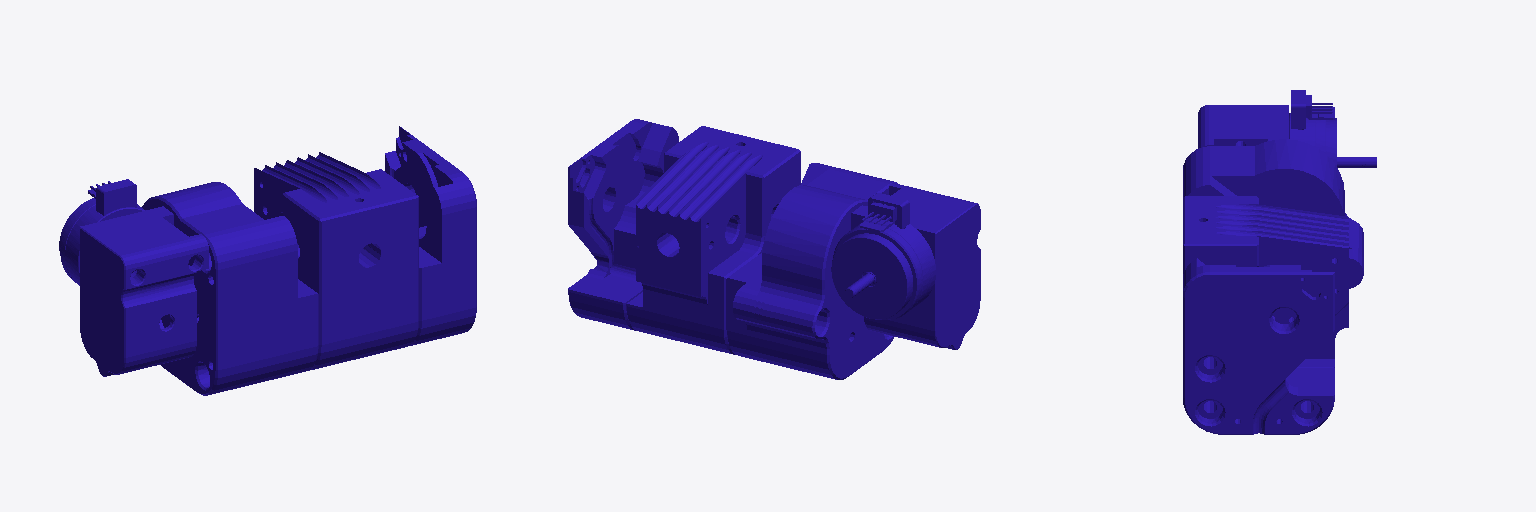
The model's file is yaw_link.OBJ.
3 renders of one model, left to right at view 1: azimuth 30°, elevation 25°; view 2: azimuth 150°, elevation 25°; view 3: azimuth 270°, elevation 25°, orthographic.
Parts seen in each view (by area): view 1: /ambf/env/neuro_robot/yaw_link_yaw_link; view 2: /ambf/env/neuro_robot/yaw_link_yaw_link; view 3: /ambf/env/neuro_robot/yaw_link_yaw_link.
Boxes of the visible parts, box(x1,y1,x2,y2) form: /ambf/env/neuro_robot/yaw_link_yaw_link: box(59, 126, 476, 395); /ambf/env/neuro_robot/yaw_link_yaw_link: box(568, 119, 980, 379); /ambf/env/neuro_robot/yaw_link_yaw_link: box(1183, 90, 1376, 434).
Bounding box in the file's own units: 0.1444 × 0.076 × 0.0703.